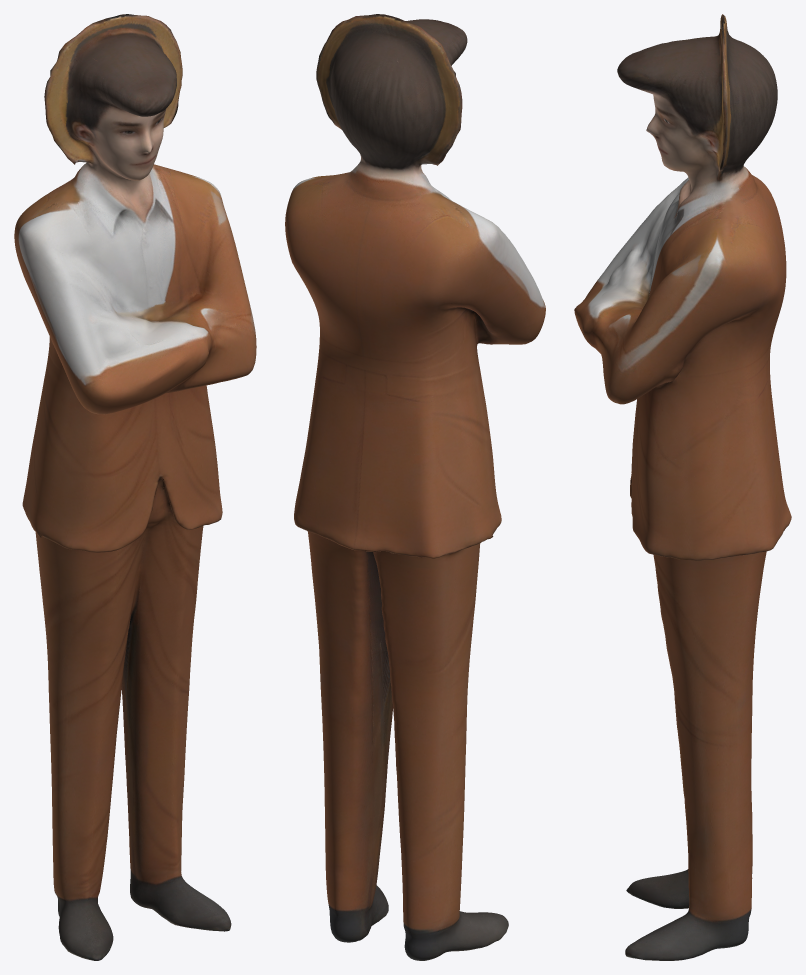
File: atheist.glb
3 renders of one model, left to right at view 1: azimuth 30°, elevation 25°; view 2: azimuth 150°, elevation 25°; view 3: azimuth 270°, elevation 25°, orthographic. The views are drawn at different scales.
Bounding box in the file's own units: 0.4582 × 2 × 0.4367.
1 material, 1 textured.
